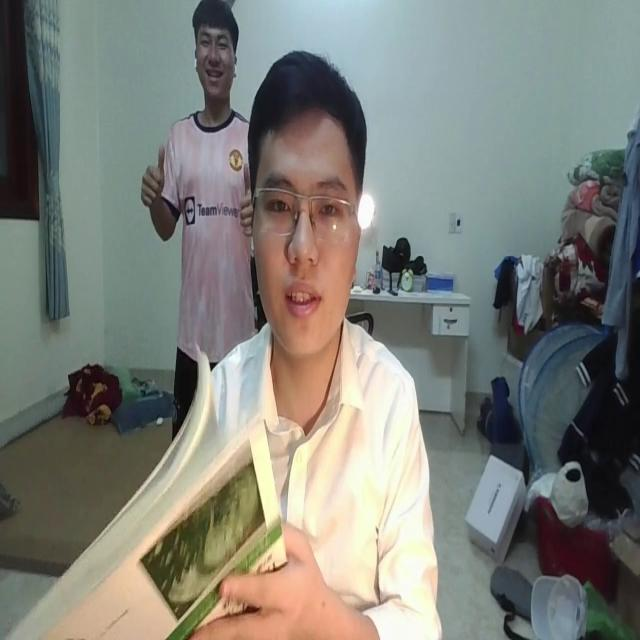book: (15, 344, 285, 640)
extra_person: (140, 4, 260, 404)
student: (204, 48, 437, 640)
